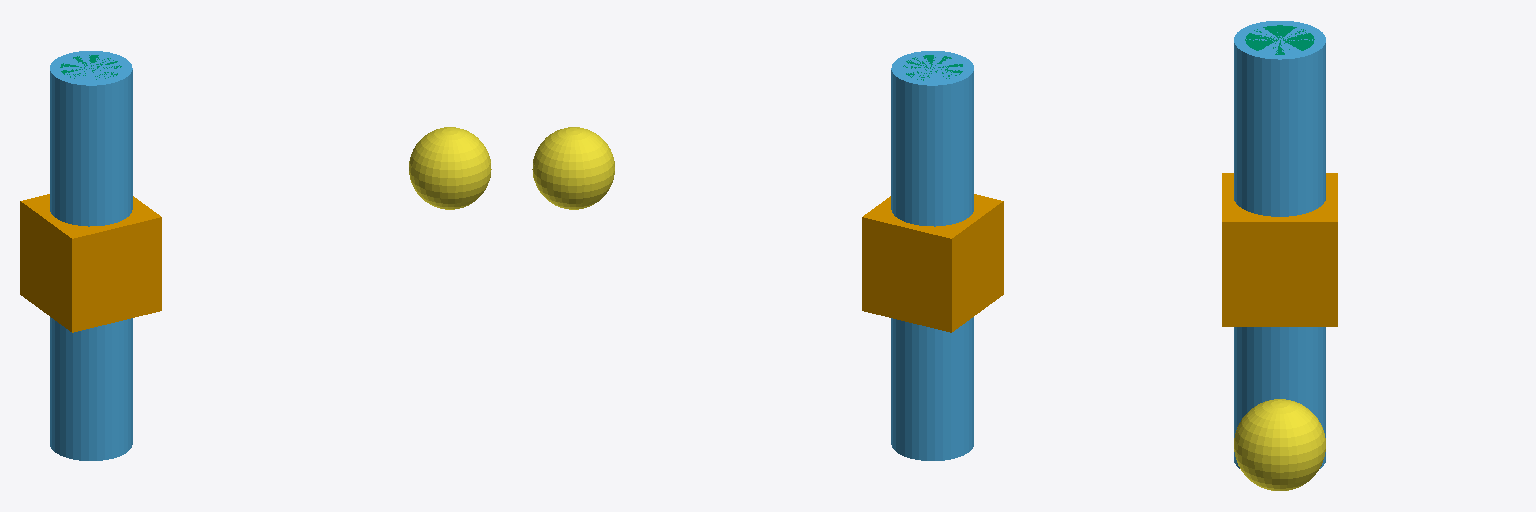
URDF robot description (three_joint_leg):
<?xml version="1.0"?>
<robot name="three_joint_leg">

  <!-- Base -->
  <link name="base">
    <visual>
      <geometry>
        <box size="0.05 0.05 0.05"/>
      </geometry>
      <material name="gray"/>
    </visual>
  </link>

  <!-- Upper leg -->
  <link name="upper_leg">
    <visual>
      <geometry>
        <cylinder radius="0.02" length="0.2"/>
      </geometry>
      <origin xyz="0 0 0" rpy="0 0 0"/>
      <material name="blue"/>
    </visual>
    <collision>
      <geometry>
        <cylinder radius="0.02" length="0.2"/>
      </geometry>
      <origin xyz="0 0 0" rpy="0 0 0"/>
    </collision>
    <inertial>
      <mass value="0.1"/>
      <origin xyz="0.1 0 0"/> <!-- COM at midpoint -->
      <inertia ixx="0.001" iyy="0.001" izz="0.001"/>
    </inertial>
  </link>

  <!-- Lower leg -->
  <link name="lower_leg">
    <visual>
      <geometry>
        <cylinder radius="0.015" length="0.2"/>
      </geometry>
      <origin xyz="0 0 0" rpy="0 0 0"/>
      <material name="green"/>
    </visual>
    <collision>
      <geometry>
        <cylinder radius="0.015" length="0.2"/>
      </geometry>
      <origin xyz="0 0 0" rpy="0 0 0"/>
    </collision>
    <inertial>
      <mass value="0.08"/>
      <origin xyz="0.1 0 0"/>
      <inertia ixx="0.0008" iyy="0.0008" izz="0.0008"/>
    </inertial>
  </link>

  <!-- Foot -->
  <link name="foot">
    <visual>
      <geometry>
        <sphere radius="0.02"/>
      </geometry>
      <material name="red"/>
    </visual>
    <collision>
      <geometry>
        <sphere radius="0.02"/>
      </geometry>
    </collision>
    <inertial>
      <mass value="0.05"/>
      <origin xyz="0 0 0"/>
      <inertia ixx="0.0005" iyy="0.0005" izz="0.0005"/>
    </inertial>
  </link>

  <!-- Abduction -->
  <joint name="hip_abduction" type="revolute">
    <parent link="base"/>
    <child link="upper_leg"/>
    <origin xyz="0 0 0" rpy="0 0 0"/>
    <axis xyz="0 0 1"/>
    <limit lower="-1.0" upper="1.0" effort="5" velocity="2"/>
  </joint>

  <!-- Hip flexion -->
  <joint name="hip_flexion" type="revolute">
    <parent link="upper_leg"/>
    <child link="lower_leg"/>
    <origin xyz="0.0 0 0" rpy="0 0 0"/> <!-- pivot at start of upper leg -->
    <axis xyz="1 0 0"/>
    <limit lower="-1.5" upper="1.5" effort="5" velocity="2"/>
  </joint>

  <!-- Knee flexion -->
  <joint name="knee_flexion" type="revolute">
    <parent link="lower_leg"/>
    <child link="foot"/>
    <origin xyz="0.2 0 0" rpy="0 0 0"/> <!-- pivot at end of lower leg -->
    <axis xyz="1 0 0"/>
    <limit lower="0" upper="2.0" effort="5" velocity="2"/>
  </joint>

</robot>

--- What the picture shows (computed from the rendered views, not written in the file) ---
3 views of the same robot in one strip: view 1: azimuth 30°, elevation 25°; view 2: azimuth 150°, elevation 25°; view 3: azimuth 270°, elevation 25° (orthographic).
Model three_joint_leg with 4 links and 3 joints (3 revolute), rooted at base, posed all joints at 0.
Visible links, largest first — view 1: upper_leg, base, foot; view 2: upper_leg, base, foot; view 3: upper_leg, base, foot, lower_leg.
Boxes of the visible links, x1,y1,x2,y2 form: upper_leg: [50, 51, 132, 460]; base: [20, 194, 161, 332]; foot: [409, 127, 491, 209]; upper_leg: [891, 51, 973, 460]; base: [862, 194, 1003, 332]; foot: [532, 127, 614, 209]; upper_leg: [1234, 21, 1325, 468]; base: [1222, 173, 1337, 326]; foot: [1234, 399, 1325, 490]; lower_leg: [1245, 25, 1314, 54].
Bounding box of the posed robot: 0.245 × 0.05 × 0.2 m (x, y, z).
Geometry: primitives only (box / cylinder / sphere), no mesh files.
